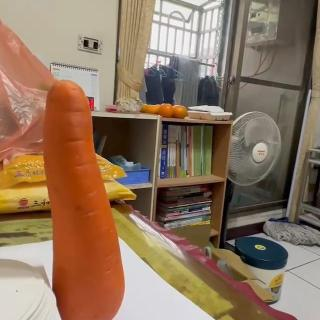carrot: (43, 79, 125, 320)
